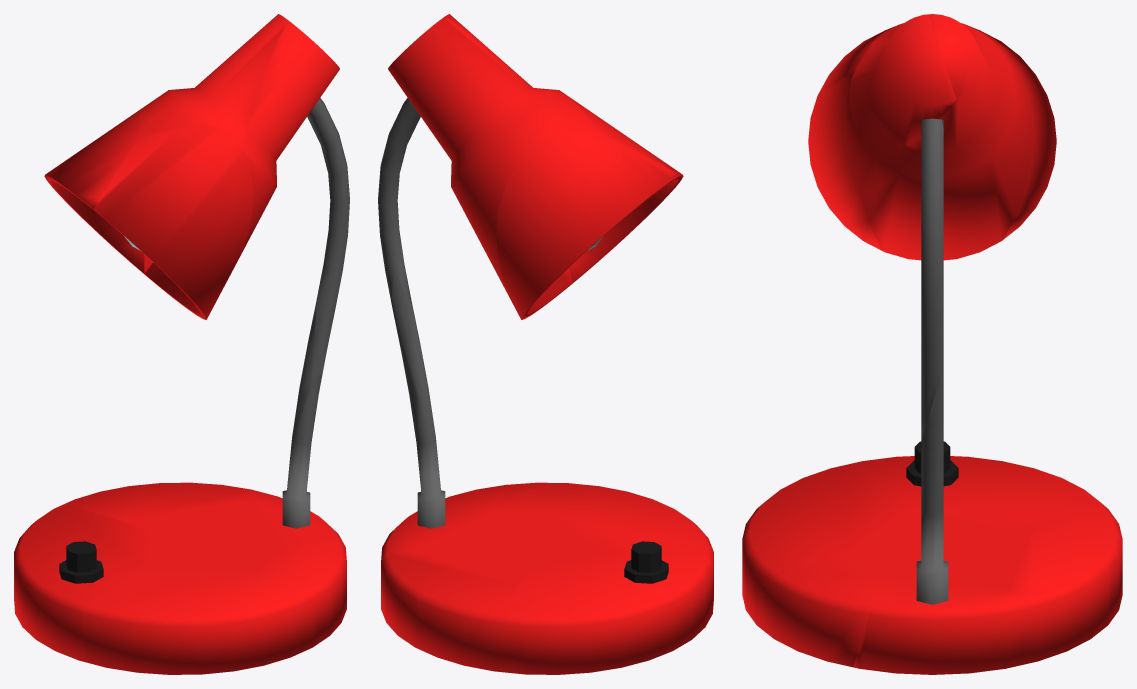
File: table_lamp.FBX
The picture shows the model from 3 angles, left to right: view 1: azimuth 30°, elevation 25°; view 2: azimuth 150°, elevation 25°; view 3: azimuth 270°, elevation 25°; orthographic projection. The views are drawn at different scales.
Parts seen in each view (by area): view 1: torso_main, torso_sub, Object001, Object003, Object005, Object006; view 2: torso_main, Object005, Object006, torso_sub, Object003, Object001; view 3: torso_main, Object005, torso_sub, Object003, Object001, Object006.
Boxes of the visible parts, x1,y1,x2,y2 form: torso_main: (14,269,343,661); torso_sub: (84,538,346,674); Object001: (94,126,253,319); Object003: (235,20,349,379); Object005: (139,14,287,318); Object006: (44,109,144,274); torso_main: (381,271,712,674); Object005: (388,17,597,319); Object006: (496,130,679,319); torso_sub: (445,482,713,609); Object003: (378,14,486,366); Object001: (568,96,683,284); torso_main: (847,367,1122,674); Object005: (860,14,1032,260); torso_sub: (742,462,909,667); Object003: (844,14,956,439); Object001: (808,26,895,249); Object006: (884,26,1056,239).
Bounding box in the file's own units: 0.2214 × 0.3777 × 0.2037.
